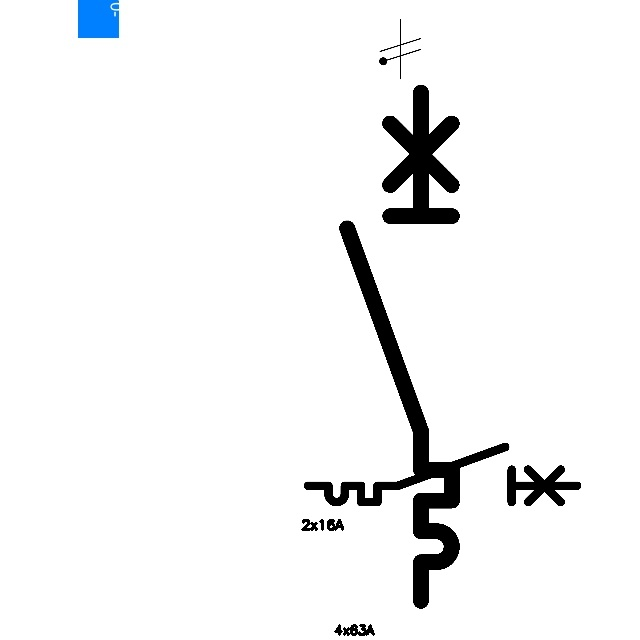interruptor_termomagnetico: (334, 79, 465, 614), (301, 440, 584, 509)
